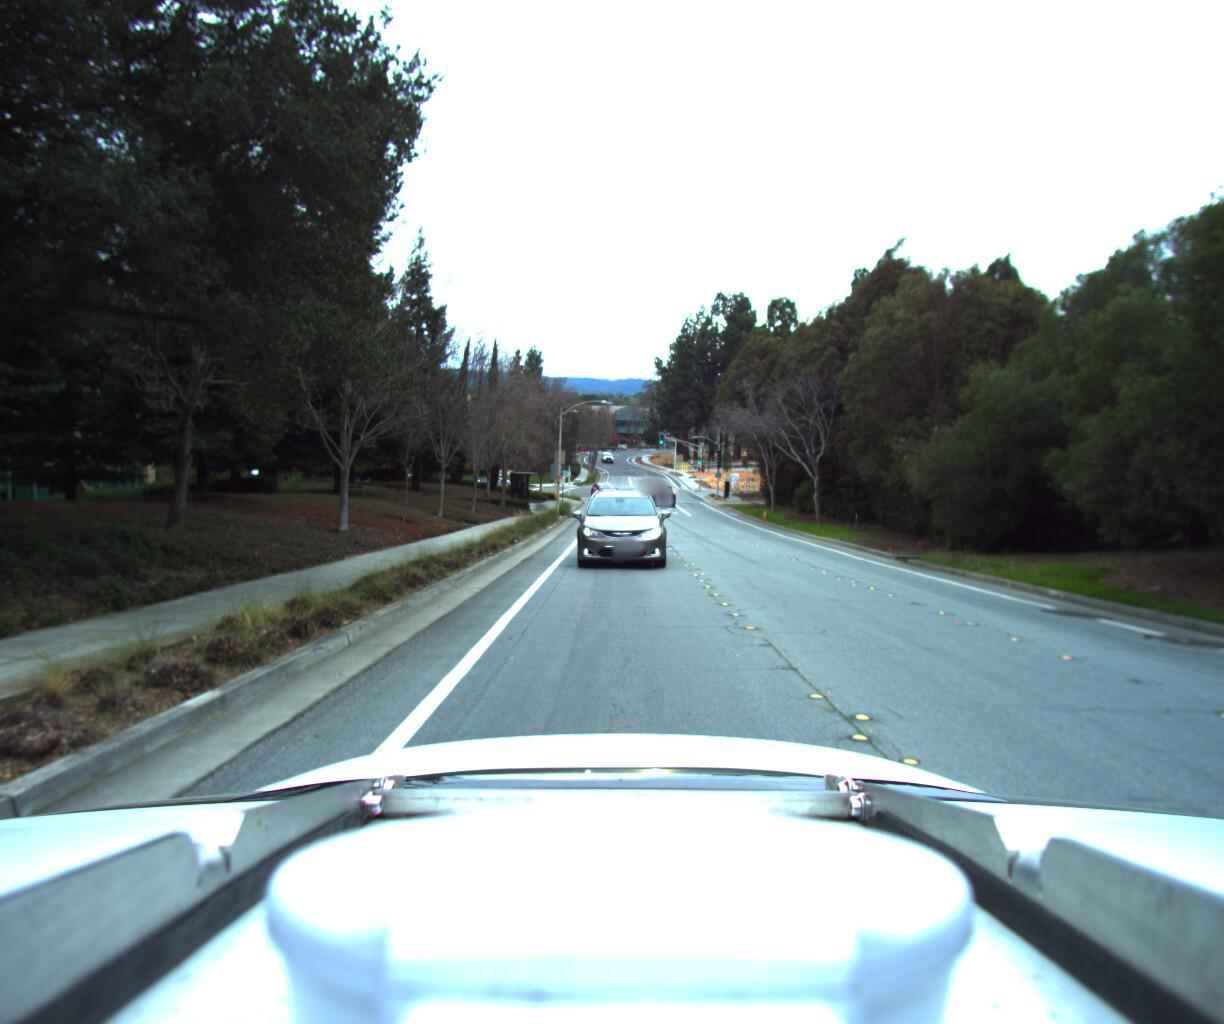car: (571, 473, 670, 578), (647, 475, 674, 501), (583, 472, 614, 492)
